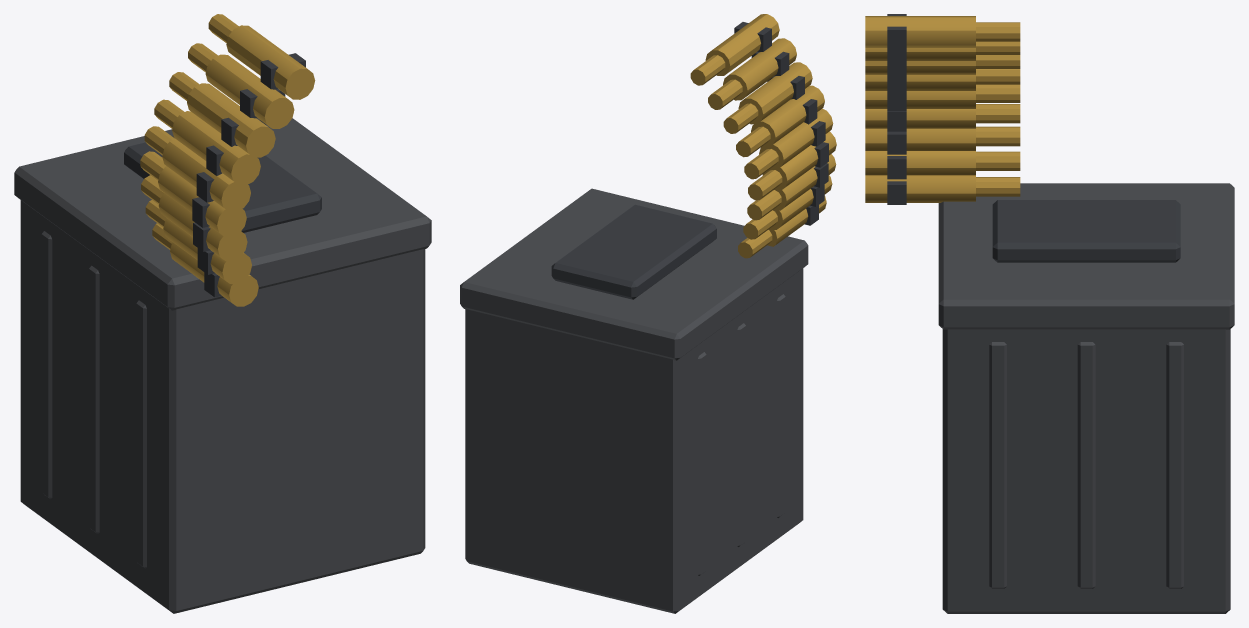
Rendered from mod_gale_box_200.glb.
The picture shows the model from 3 angles, left to right: view 1: azimuth 30°, elevation 25°; view 2: azimuth 150°, elevation 25°; view 3: azimuth 270°, elevation 25°; orthographic projection. The views are drawn at different scales.
Visible parts, largest first — view 1: AmmoBox, AmmoBoxBelt; view 2: AmmoBox, AmmoBoxBelt; view 3: AmmoBox, AmmoBoxBelt.
Boxes of the visible parts, x1,y1,x2,y2 form: AmmoBox: (14, 118, 431, 613); AmmoBoxBelt: (140, 14, 315, 306); AmmoBox: (460, 188, 808, 613); AmmoBoxBelt: (690, 14, 836, 258); AmmoBox: (938, 183, 1234, 613); AmmoBoxBelt: (865, 14, 1020, 204).
Size of the model in its own units: 0.103 by 0.2138 by 0.1335.
